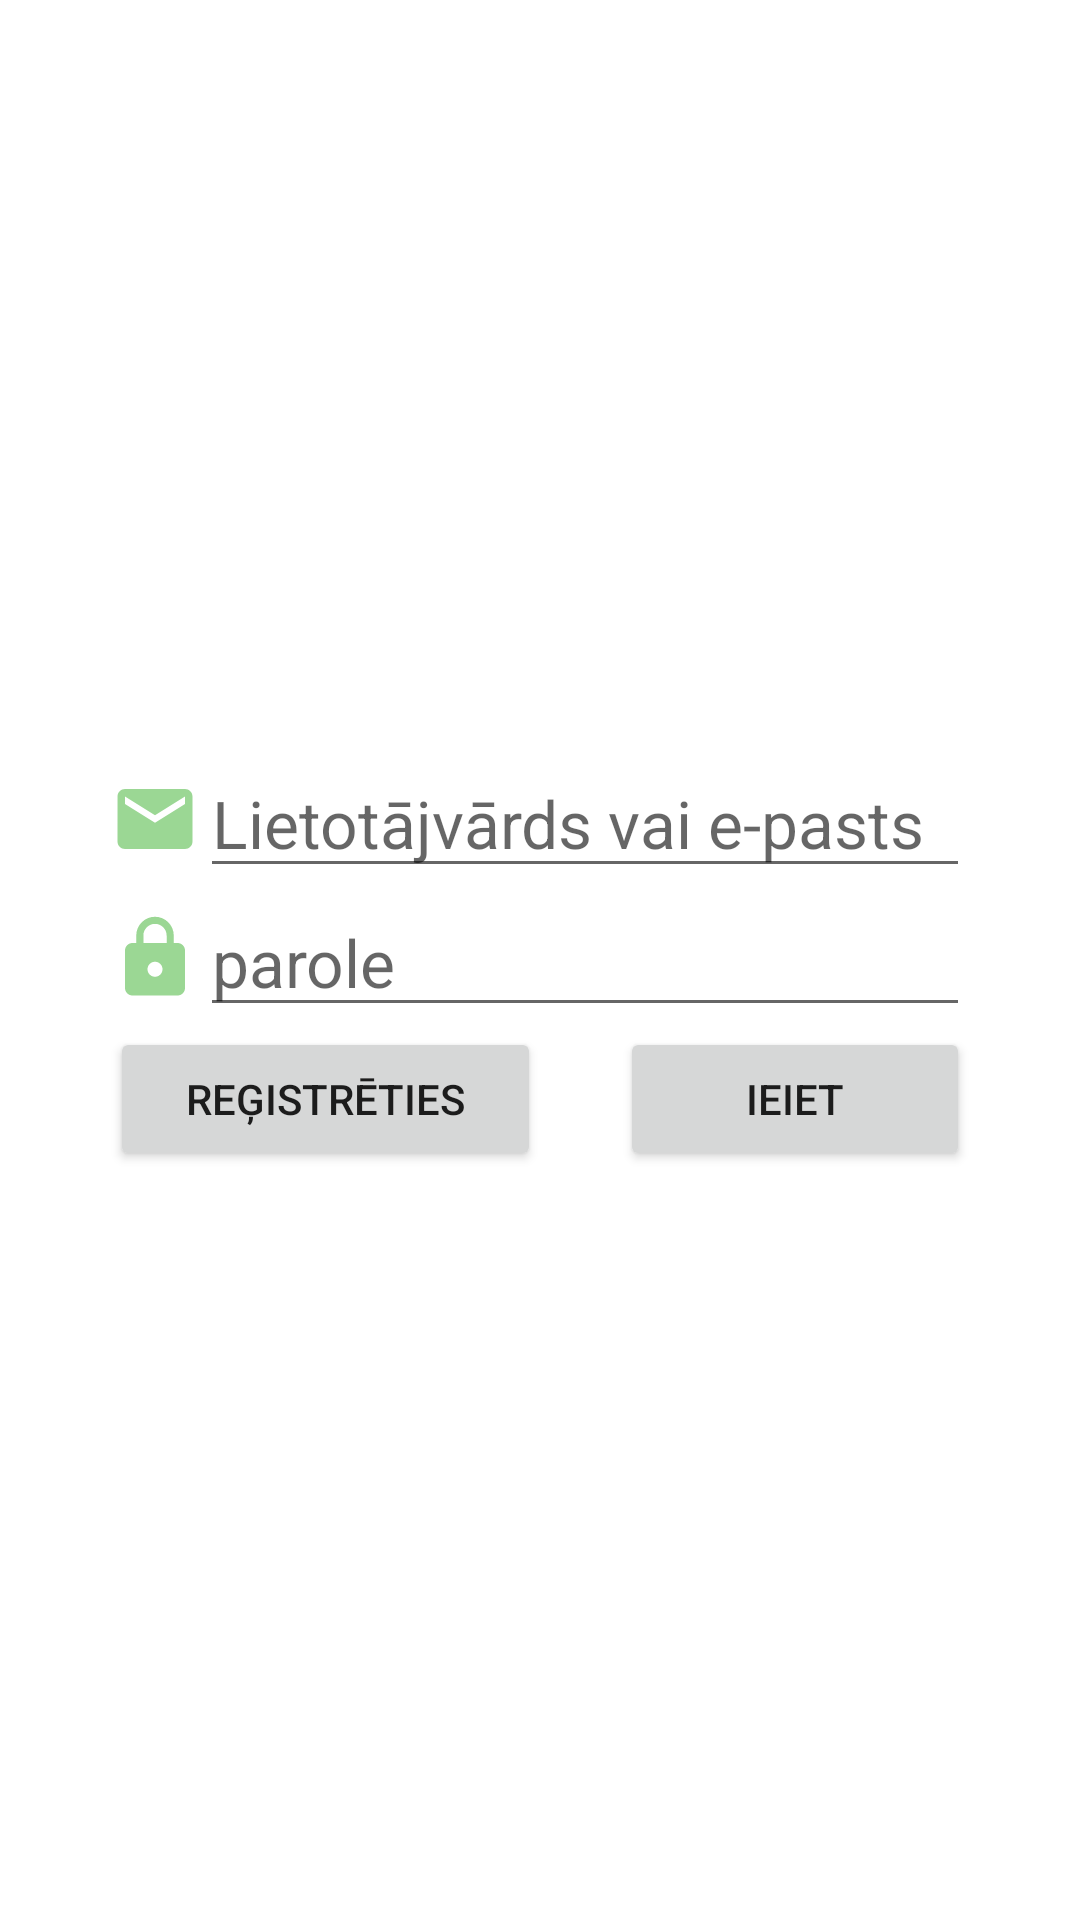

Named icons in this screenshot (1080x1920) and their bounding boxes, (x1=x1, y1=y1, x2=x2, y2=y2):
email: (x1=117, y1=789, x2=193, y2=849)
lock: (x1=125, y1=916, x2=185, y2=996)
